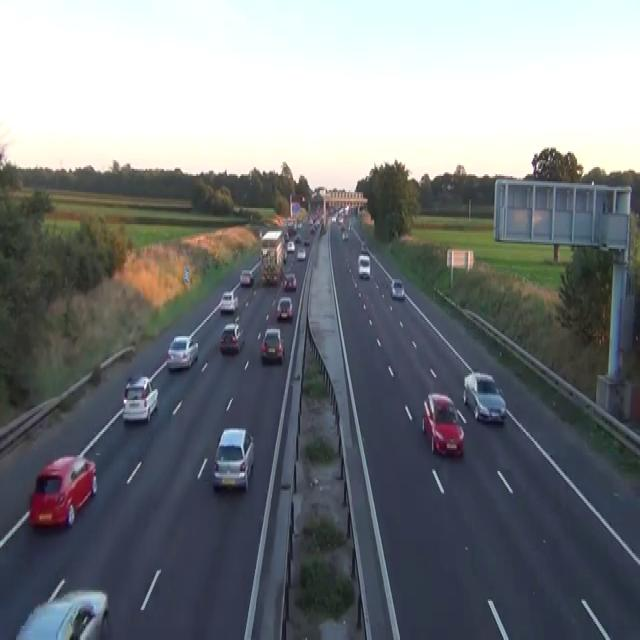Car: (14, 576, 108, 638), (28, 453, 97, 528), (421, 393, 464, 457), (212, 426, 254, 491), (463, 370, 506, 423), (122, 375, 158, 423), (167, 334, 198, 370), (260, 327, 284, 363), (219, 322, 244, 354), (219, 290, 238, 313), (276, 297, 293, 320), (357, 253, 370, 279), (390, 277, 405, 299), (262, 265, 279, 284), (239, 268, 253, 286), (283, 272, 296, 290), (297, 247, 306, 260), (286, 240, 295, 252), (341, 228, 348, 240), (361, 240, 368, 252), (320, 222, 326, 235), (446, 182, 454, 190), (336, 215, 343, 224), (311, 190, 318, 199), (233, 204, 240, 213), (295, 233, 301, 243), (282, 251, 287, 263), (303, 238, 310, 246), (283, 231, 288, 242), (309, 224, 315, 233), (348, 220, 353, 230), (297, 220, 302, 228), (331, 215, 336, 222), (441, 183, 446, 190)
Truck: (259, 230, 285, 284)
